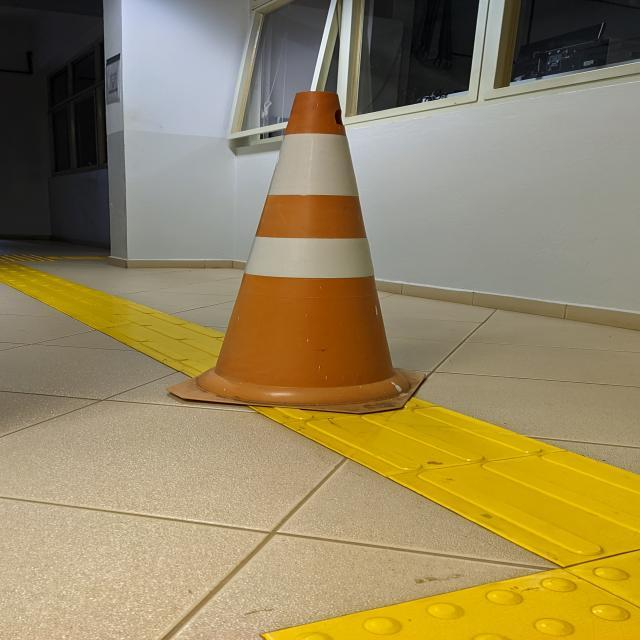Cone: (164, 86, 442, 416)
